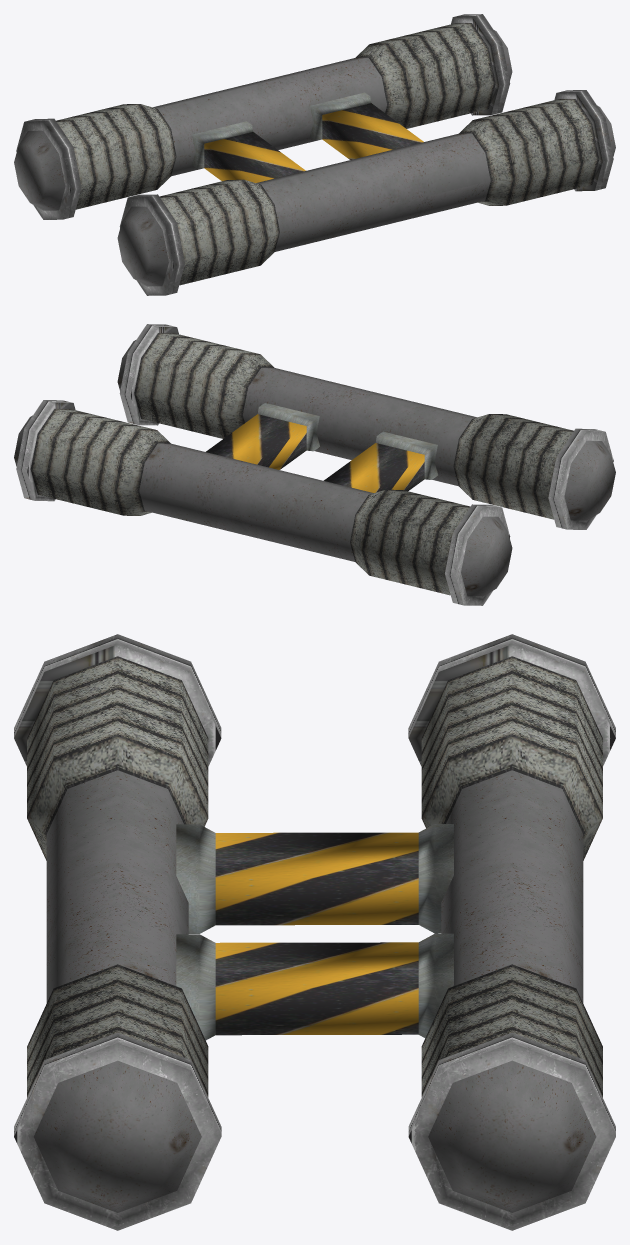
Rendered from Ob_Connector_RC.fbx.
The picture shows the model from 3 angles, top to bottom: view 1: azimuth 30°, elevation 25°; view 2: azimuth 150°, elevation 25°; view 3: azimuth 270°, elevation 25°; orthographic projection. The views are drawn at different scales.
Visible parts, largest first — view 1: Ob_Connector_RC; view 2: Ob_Connector_RC; view 3: Ob_Connector_RC.
Part boxes in pixels (x1,y1,x2,y2): Ob_Connector_RC: [14, 14, 615, 295]; Ob_Connector_RC: [14, 324, 615, 605]; Ob_Connector_RC: [14, 634, 615, 1230].
Size of the model in its own units: 1319 by 267 by 773.
